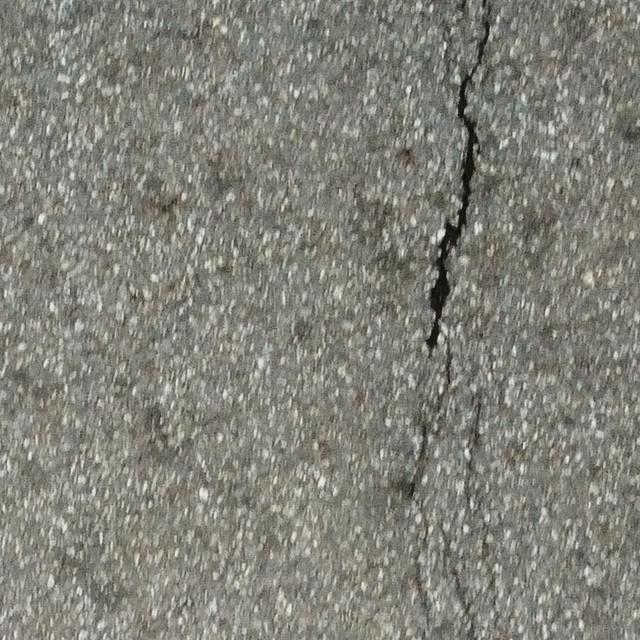LongitudinalCrack: (424, 20, 493, 361)
